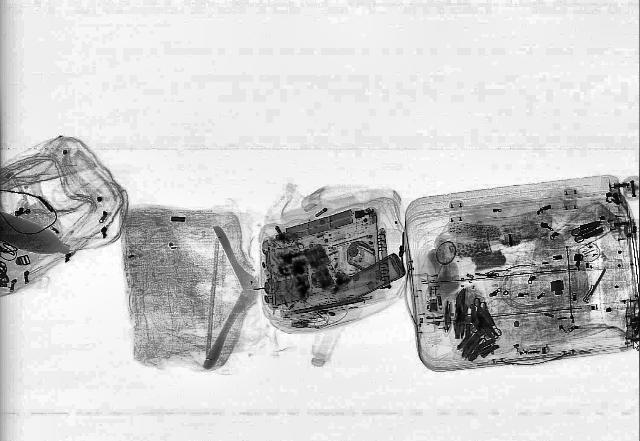Scissors: (566, 218, 608, 244)
